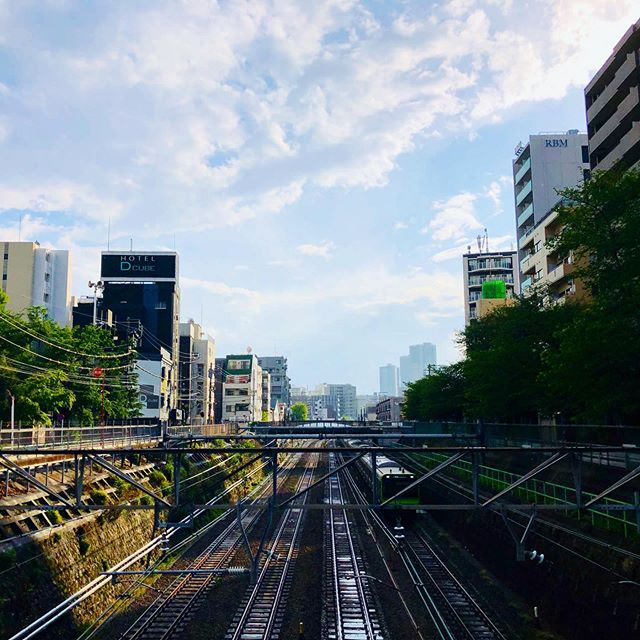building: (85, 239, 181, 422), (510, 122, 588, 323), (562, 42, 640, 243), (1, 231, 66, 406), (206, 336, 291, 422), (454, 240, 517, 352)
sky: (3, 1, 591, 313)
train: (338, 425, 421, 515)
train track: (107, 447, 338, 640), (381, 534, 521, 640)
vegetation: (403, 235, 640, 428), (1, 313, 158, 425)
